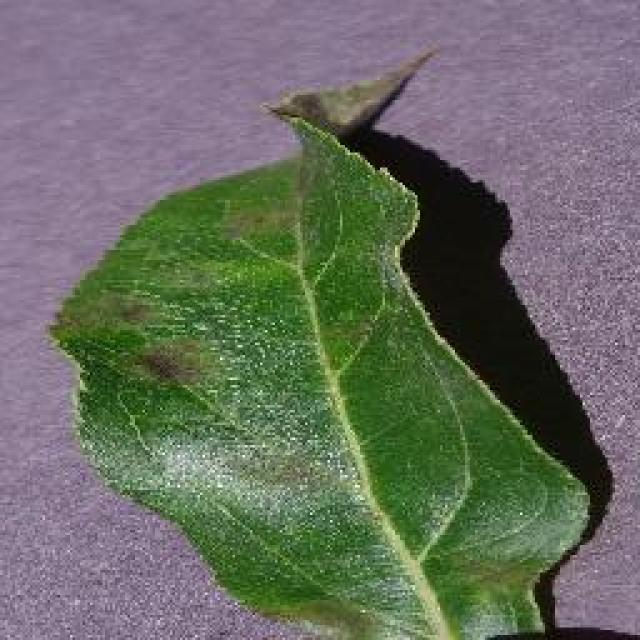apple scab disease: (45, 45, 607, 637)
